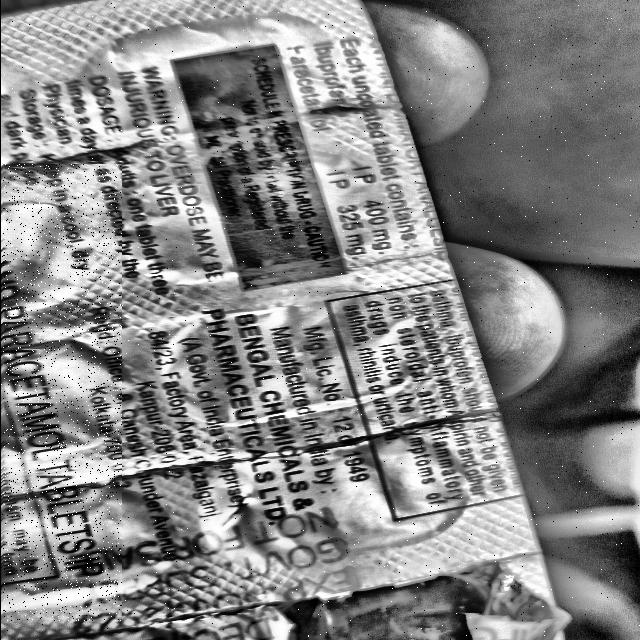IBUPROFEN AND PARACETAMOL TABLETS: (2, 168, 120, 621)
